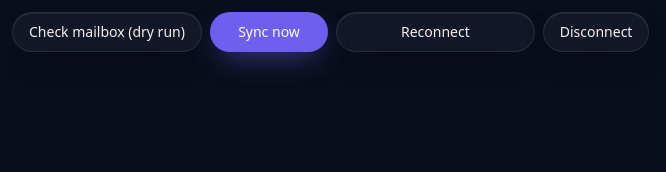
Scenario: Zoho sync › shows the server's message when the sync fails and re-enables the button
The width and height of the screenshot is (666, 172).
Step 1. Click the button "Sync now" → coordinates (269, 32), box [210,12,328,52]
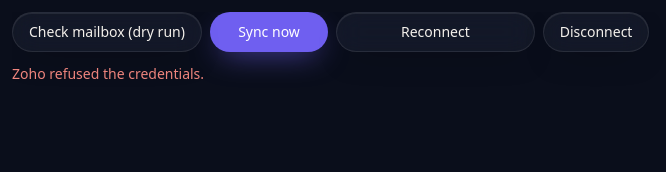
Expected: the message reads "Zoho refused the credentials.", [12,64,204,83]
